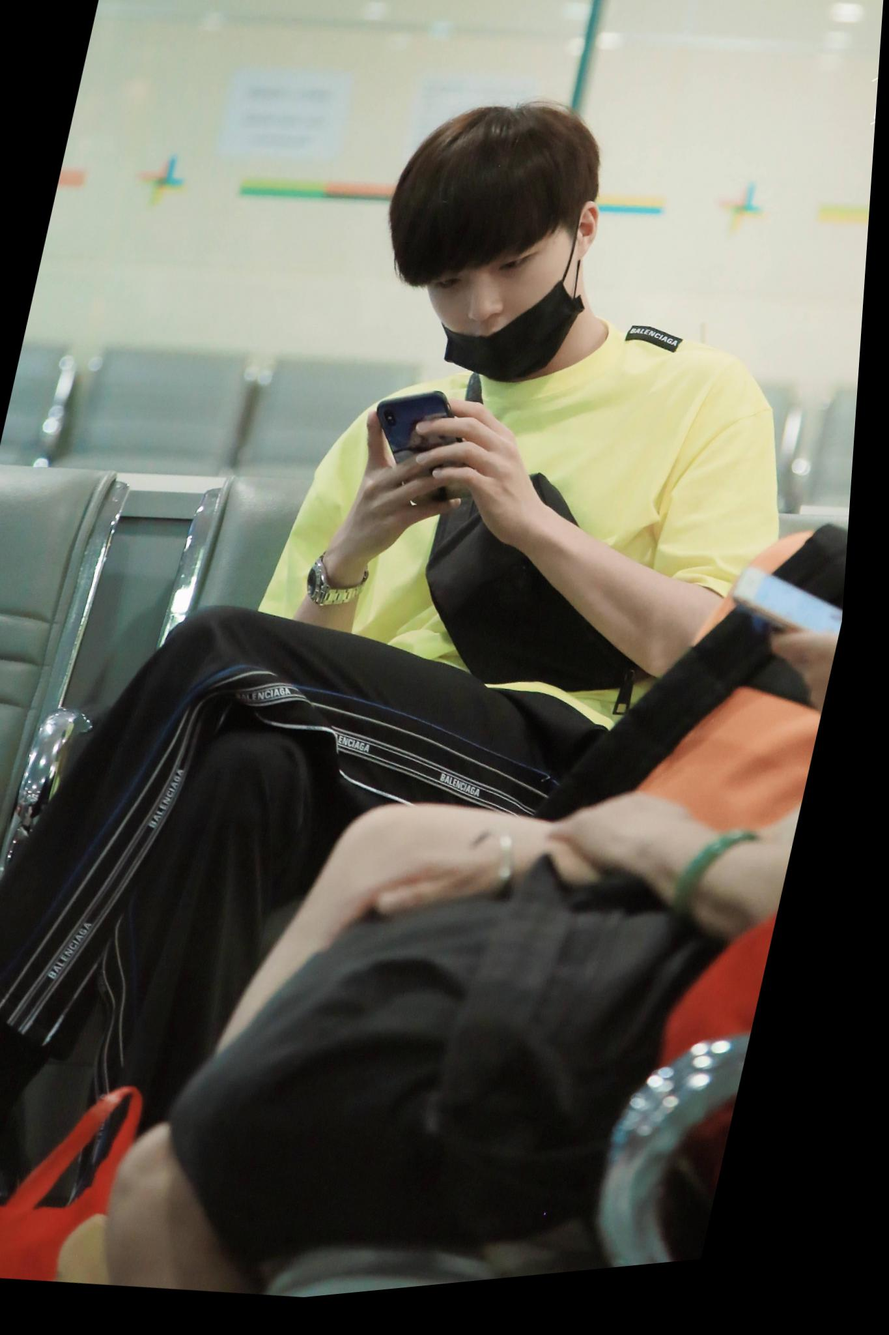WRONG: (411, 217, 595, 403)
